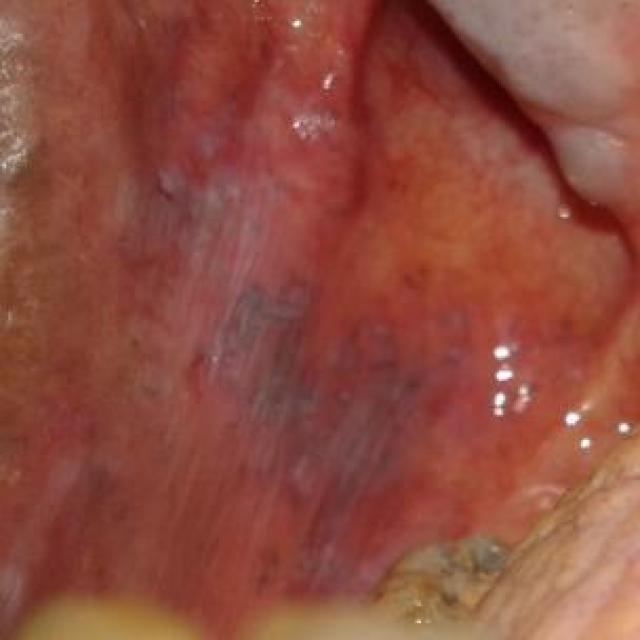leukoplakia-detection: (125, 95, 480, 596)
processing_area: (0, 0, 638, 638)
